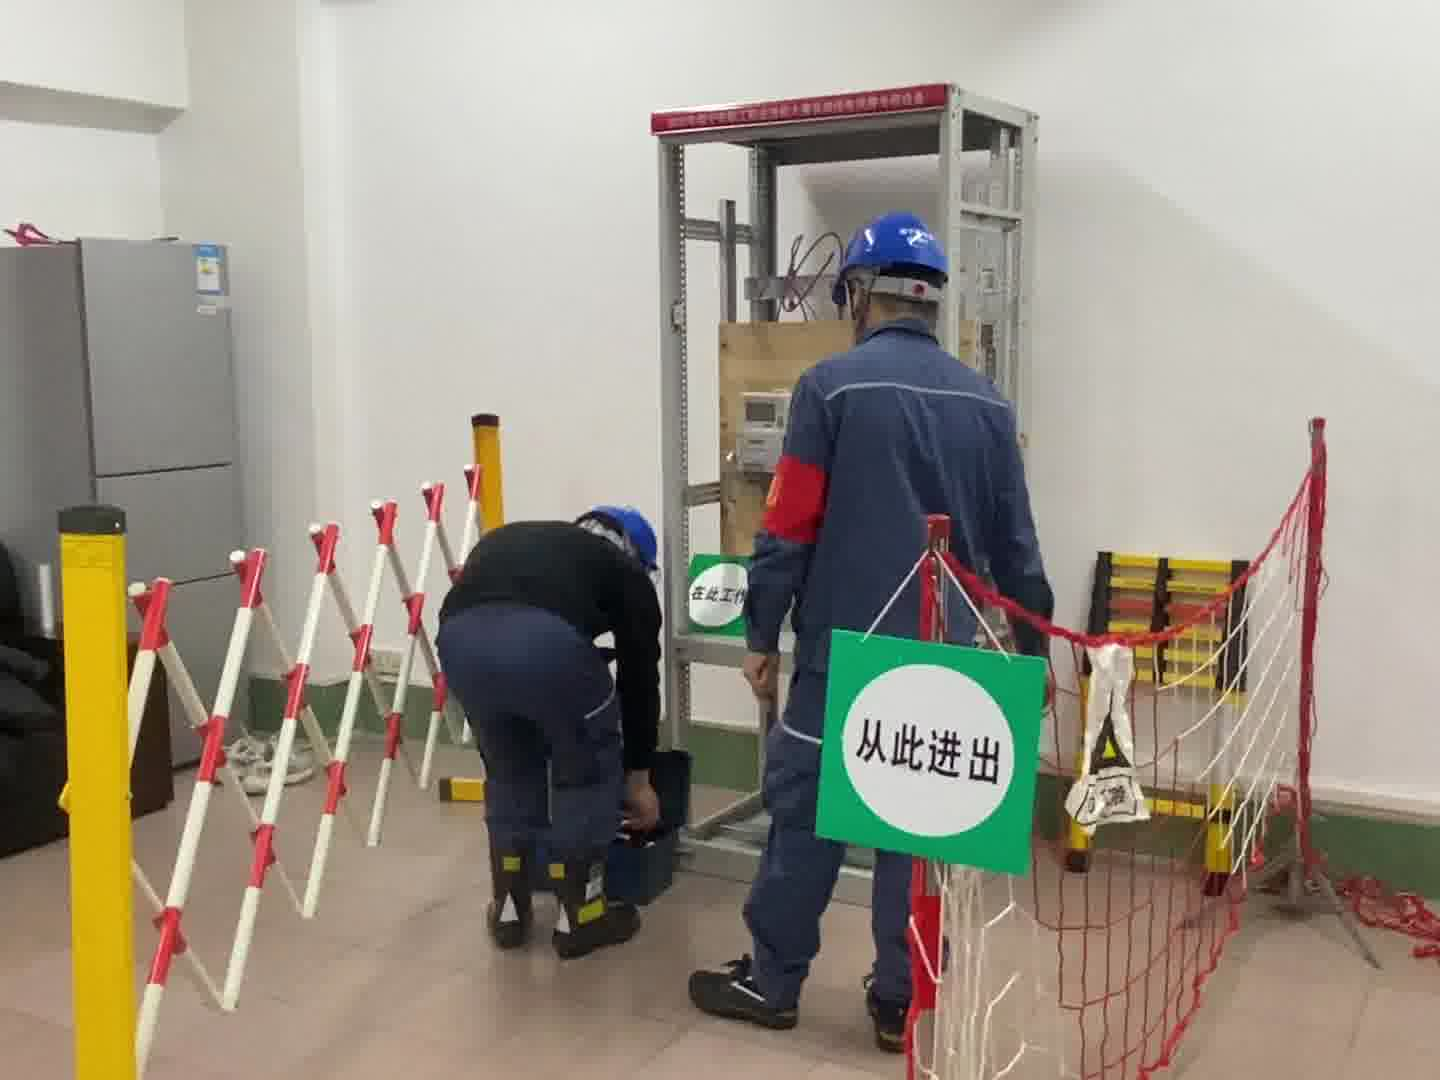badge: (760, 455, 832, 544)
downsuit: (749, 649, 950, 981), (452, 610, 620, 828)
halt: (828, 210, 954, 330), (583, 504, 660, 579)
hand: (621, 777, 667, 831), (738, 653, 775, 694)
inear: (841, 269, 881, 336)
intosign: (825, 630, 1037, 874)
person: (710, 206, 1061, 1051), (432, 495, 675, 951)
shoe: (556, 855, 638, 949), (481, 841, 534, 938)
upcloth: (449, 518, 648, 608)
upsuit: (744, 321, 1059, 640)
worksign: (684, 550, 747, 627)
